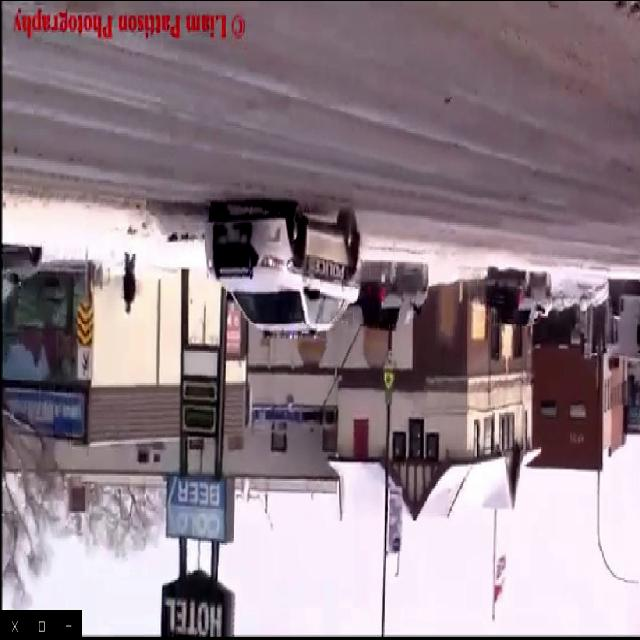emergency: (200, 190, 359, 342)
